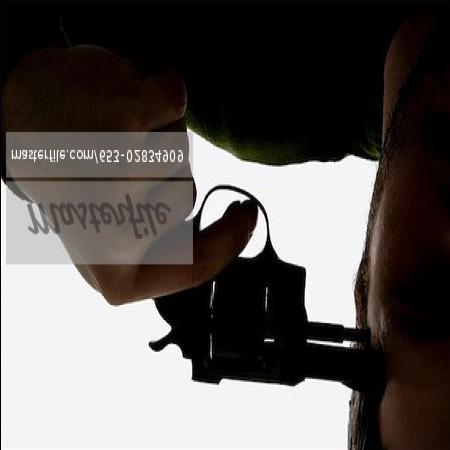Pistol: (111, 160, 402, 410)
